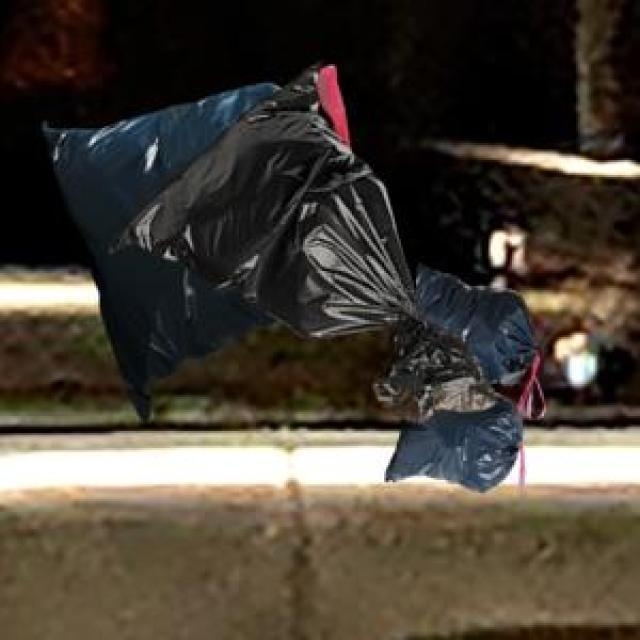waste: (46, 65, 540, 489)
